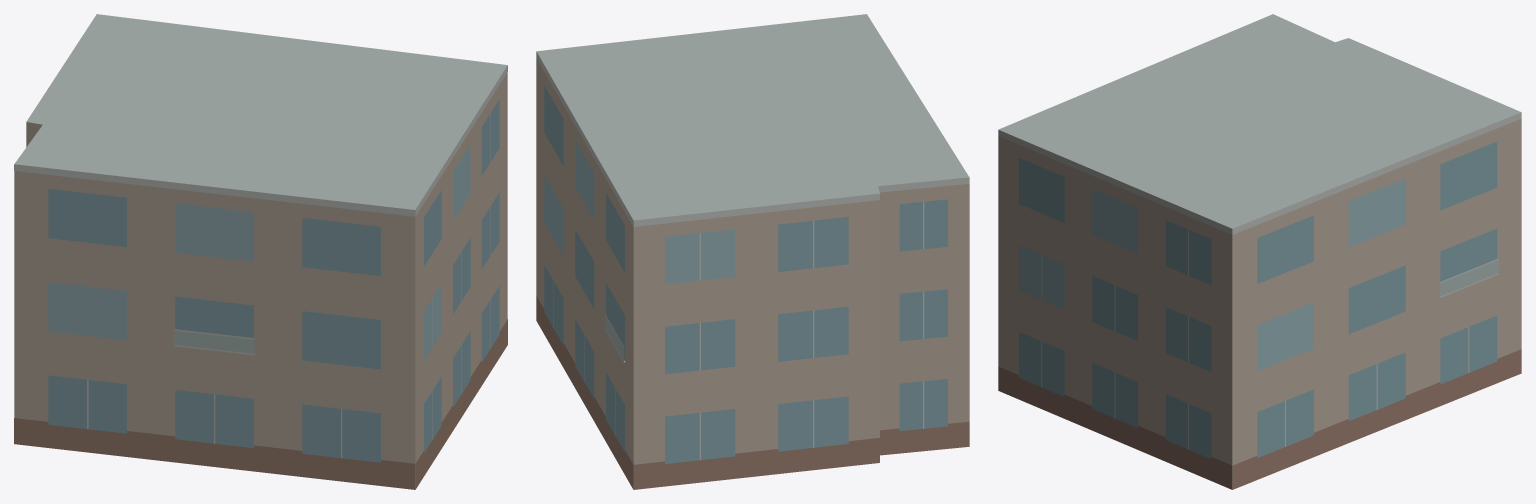
File: survey-upis-32694759.glb
The picture shows the model from 3 angles, left to right: view 1: azimuth 30°, elevation 25°; view 2: azimuth 150°, elevation 25°; view 3: azimuth 270°, elevation 25°; orthographic projection. The views are drawn at different scales.
Parts seen in each view (by area): view 1: survey-upis-32694759.tmp; view 2: survey-upis-32694759.tmp; view 3: survey-upis-32694759.tmp.
Part boxes in pixels (left/top/right/bottom): survey-upis-32694759.tmp: left=14, top=14, right=507, bottom=489; survey-upis-32694759.tmp: left=536, top=14, right=969, bottom=489; survey-upis-32694759.tmp: left=998, top=14, right=1521, bottom=489.
Bounding box in the file's own units: 18.01 × 10.2 × 18.54.
